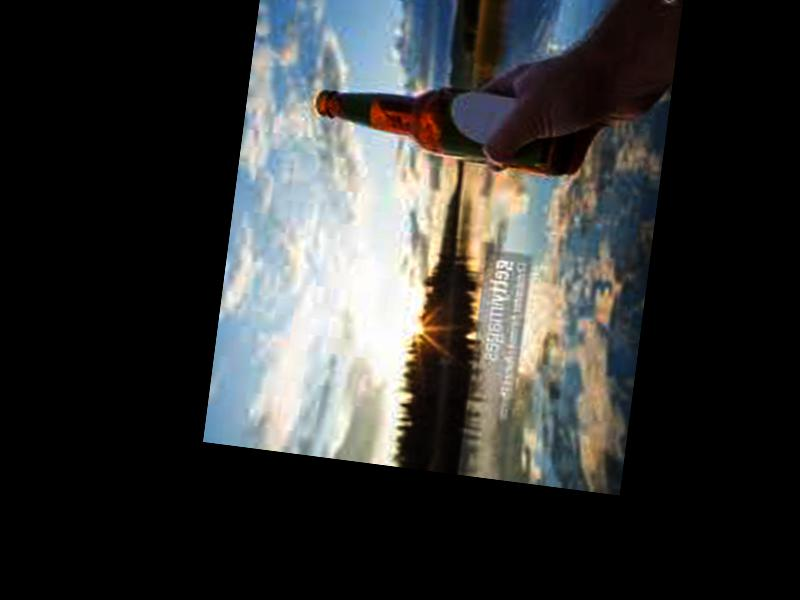Beer: (310, 69, 575, 178)
